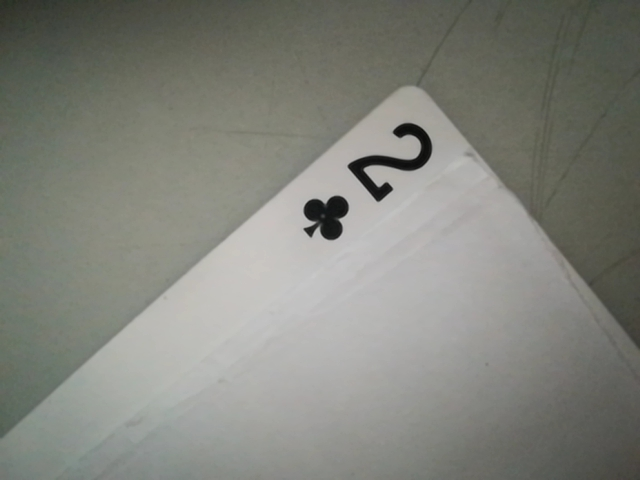mh 2: (287, 114, 463, 249)
